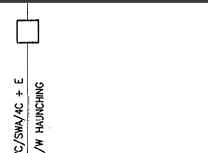Cable Termination Box: (11, 13, 49, 52)
